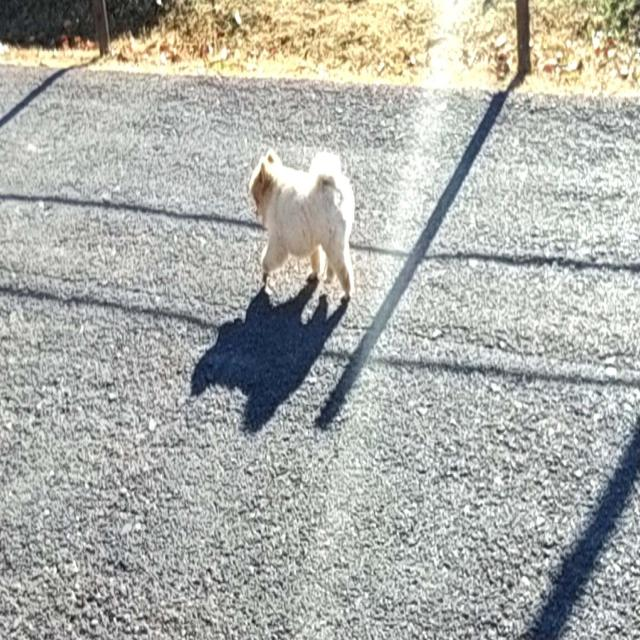Dog: (248, 147, 355, 302)
